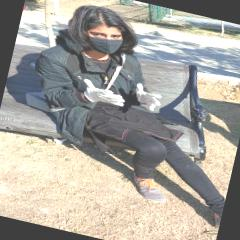gloved: (79, 78, 128, 109), (131, 82, 163, 112)
